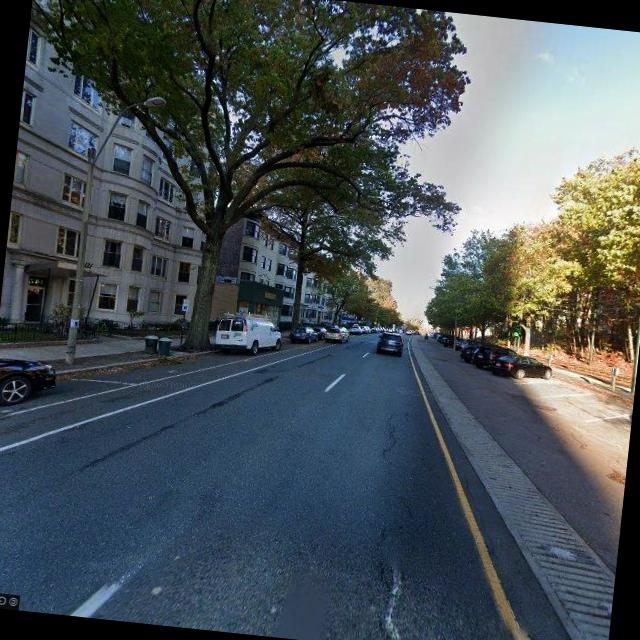pothole: (376, 408, 406, 464)
